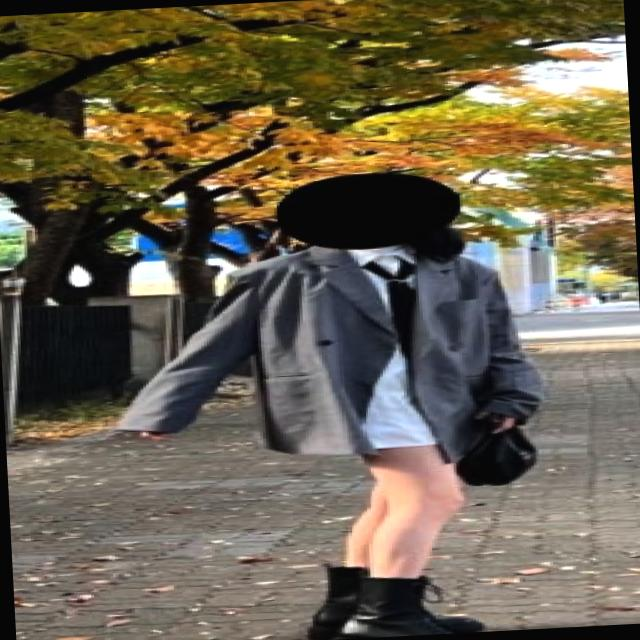blazer: (107, 238, 544, 466)
